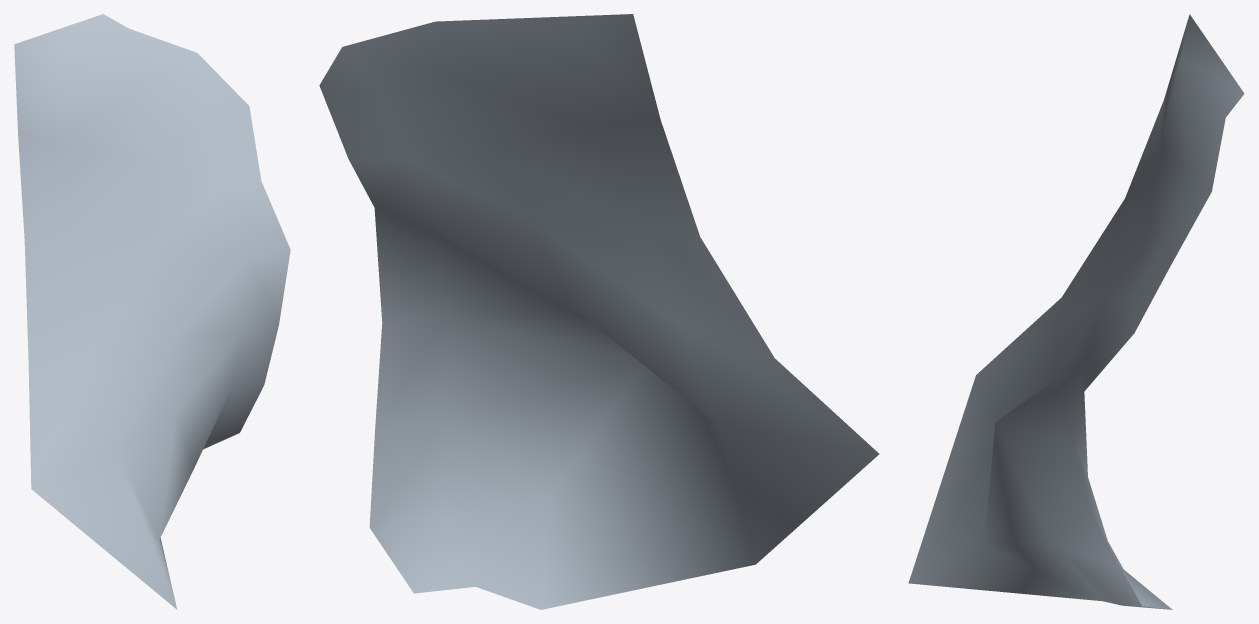
File: anterior-sacro-iliac-ligament-r.glb
3 renders of one model, left to right at view 1: azimuth 30°, elevation 25°; view 2: azimuth 150°, elevation 25°; view 3: azimuth 270°, elevation 25°, orthographic. The views are drawn at different scales.
Visible parts, largest first — view 1: Anterior sacro-iliac ligament.r; view 2: Anterior sacro-iliac ligament.r; view 3: Anterior sacro-iliac ligament.r.
Part boxes in pixels (box(x1,y1,x2,y2)): Anterior sacro-iliac ligament.r: box(14, 14, 290, 609); Anterior sacro-iliac ligament.r: box(319, 14, 879, 609); Anterior sacro-iliac ligament.r: box(908, 14, 1244, 609).
Bounding box in the file's own units: 0.0434 × 0.0657 × 0.0365.
